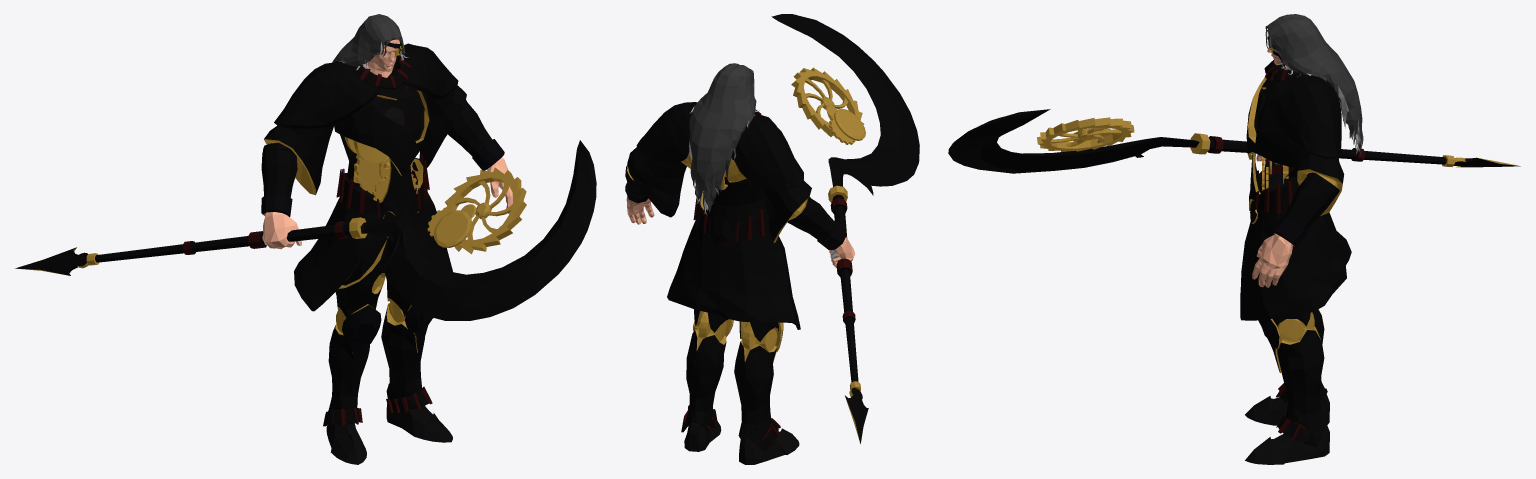
Rendered from Chronos Model.FBX.
3 views of the same model, side by side, from view 1: azimuth 30°, elevation 25°; view 2: azimuth 150°, elevation 25°; view 3: azimuth 270°, elevation 25° (orthographic). The views are drawn at different scales.
Visible parts, largest first — view 1: Chronos, Staff; view 2: Chronos, Staff; view 3: Chronos, Staff.
Boxes of the visible parts, x1,y1,x2,y2 form: Chronos: (261, 14, 512, 464); Staff: (15, 140, 596, 320); Chronos: (625, 63, 855, 464); Staff: (771, 14, 919, 443); Chronos: (1240, 14, 1363, 464); Staff: (948, 109, 1520, 173).
Size of the model in its own units: 23.79 by 25.18 by 31.09.
